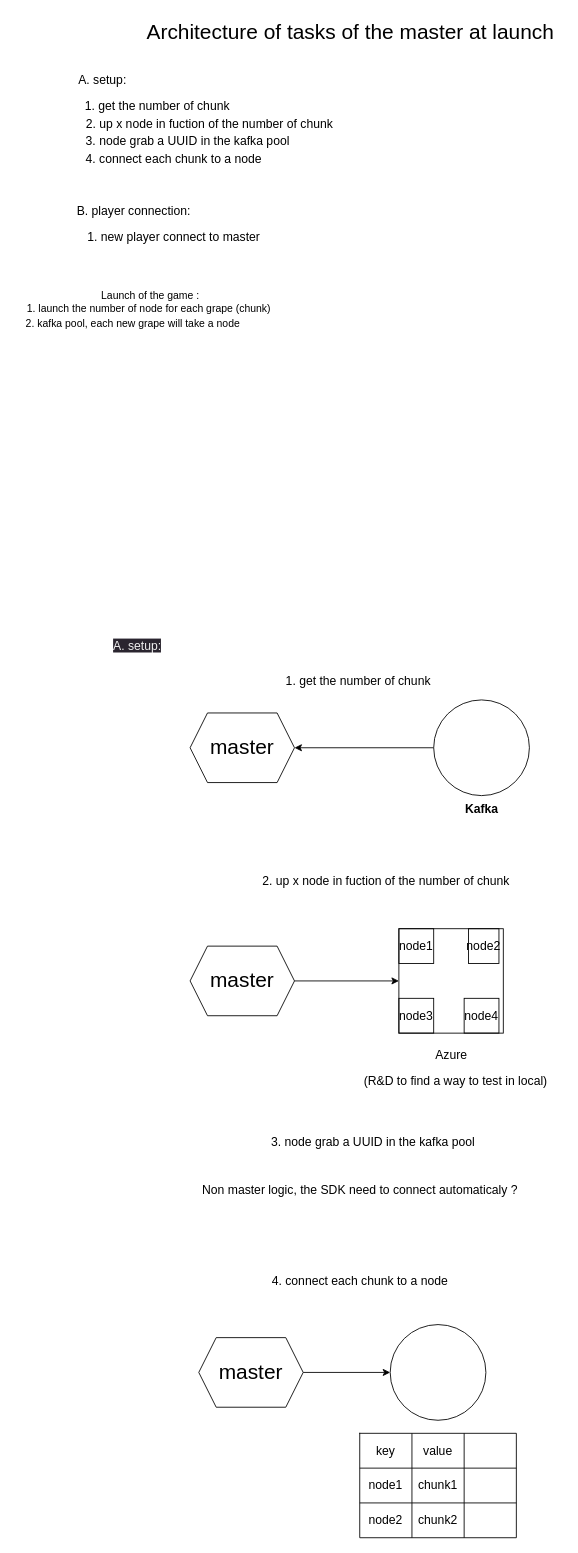
Image size: 578x1553. Some labels were removed from this diagram. Here are the shapes that lost their labels. From the top down, the centre of each, then its label:
At [481,747]: "number-of-chunck".
At [437,1372]: "link-node-chunk".
